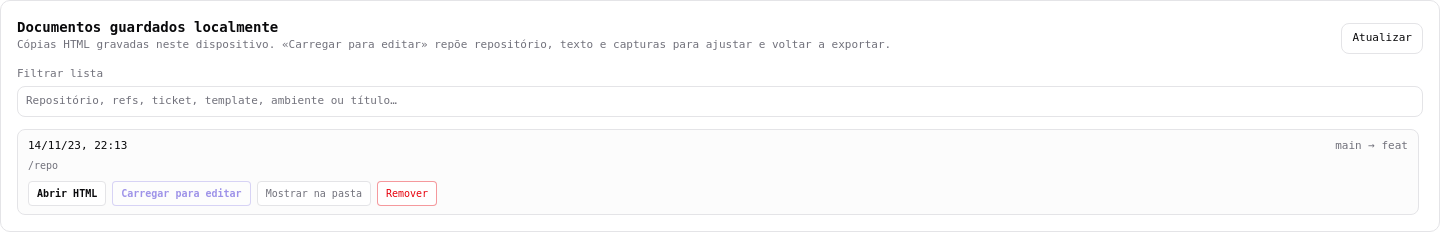
Scenario: SavedEvidenceDocumentsPanel › remove documento e volta a carregar a lista
What coordinates should you click on to do the following:
click the button "Remover"
I would click on:
 (407, 194)
Its box is [377,181,437,206].
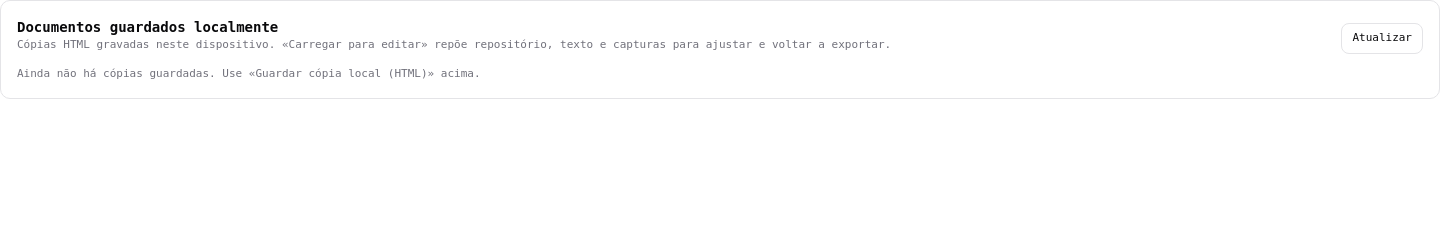
Expected: the text "Ainda não há cópias guardadas" is shown, [17,66,481,80]
